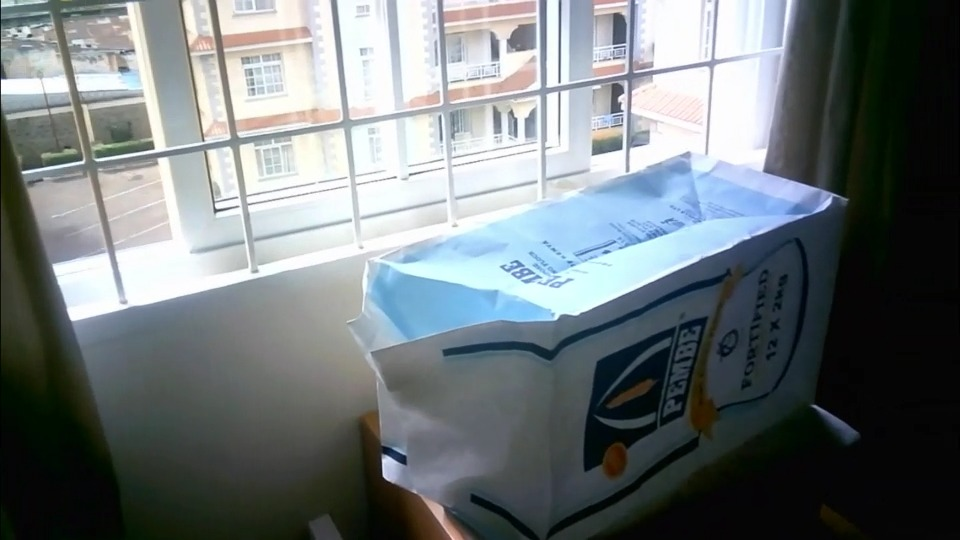wheat_flour_blue_label: (356, 154, 845, 537)
